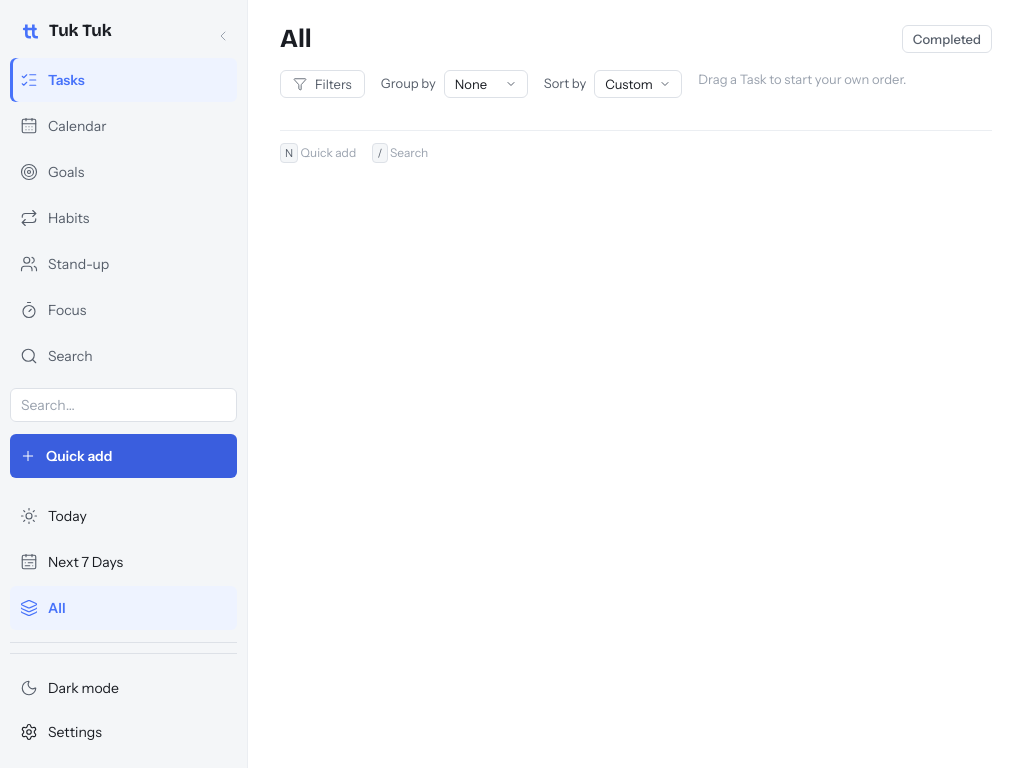
Test case: Collapsing the sidebar › collapses to icons and back from the toggle beside the wordmark
This screenshot has width=1024, height=768.
Expected: the heading "All" is shown, [280,24,312,54]
Expected: the form is shown, [10,388,237,434]
Click the button named "Collapse sidebar" at (223, 36), box [209,14,237,58]
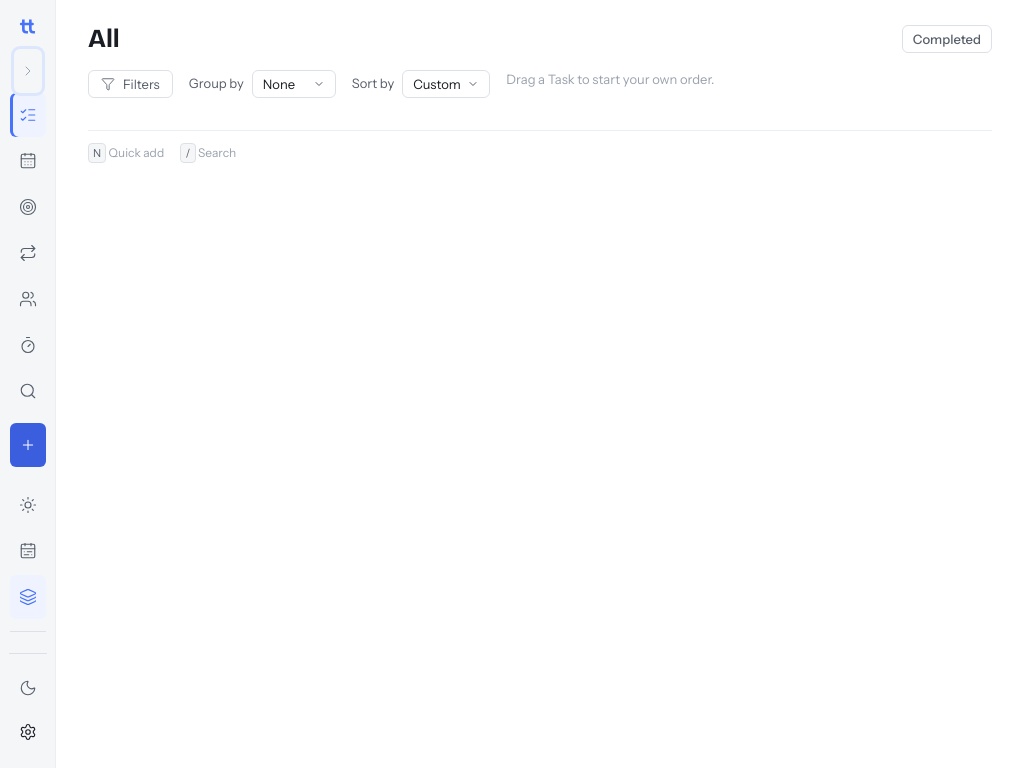
Expected: the button named "Quick add" is shown, [10,423,46,467]
Click the button named "Expand sidebar" at (28, 71), box [14,49,42,93]
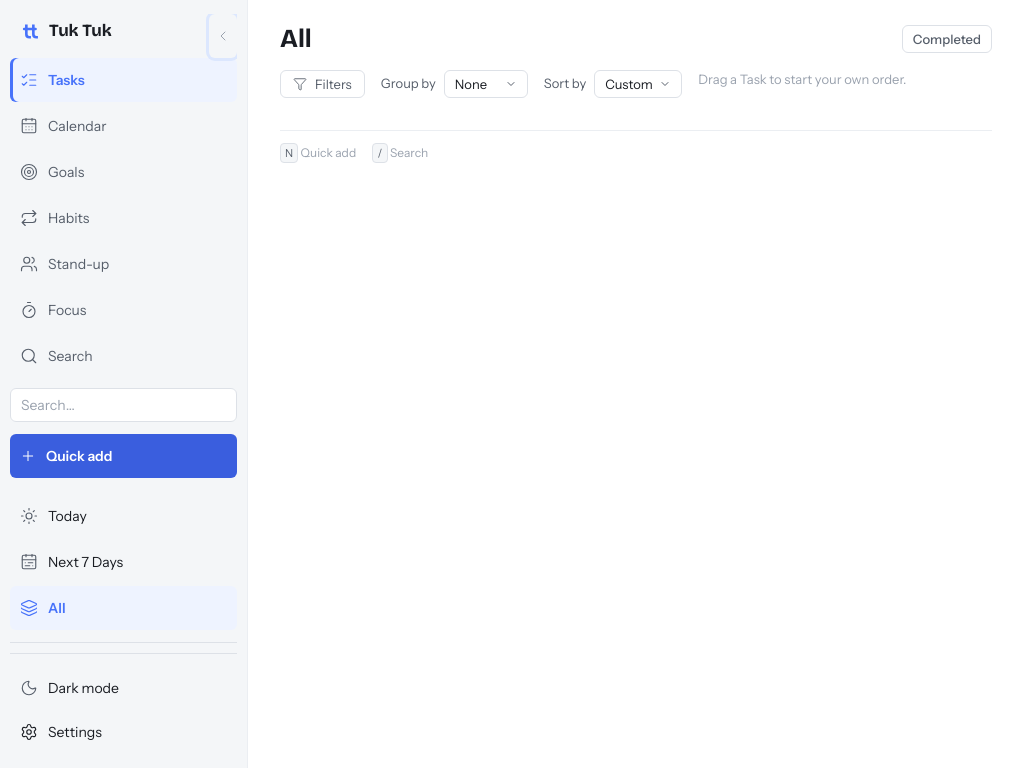
Expected: the form is shown, [10,388,237,434]
